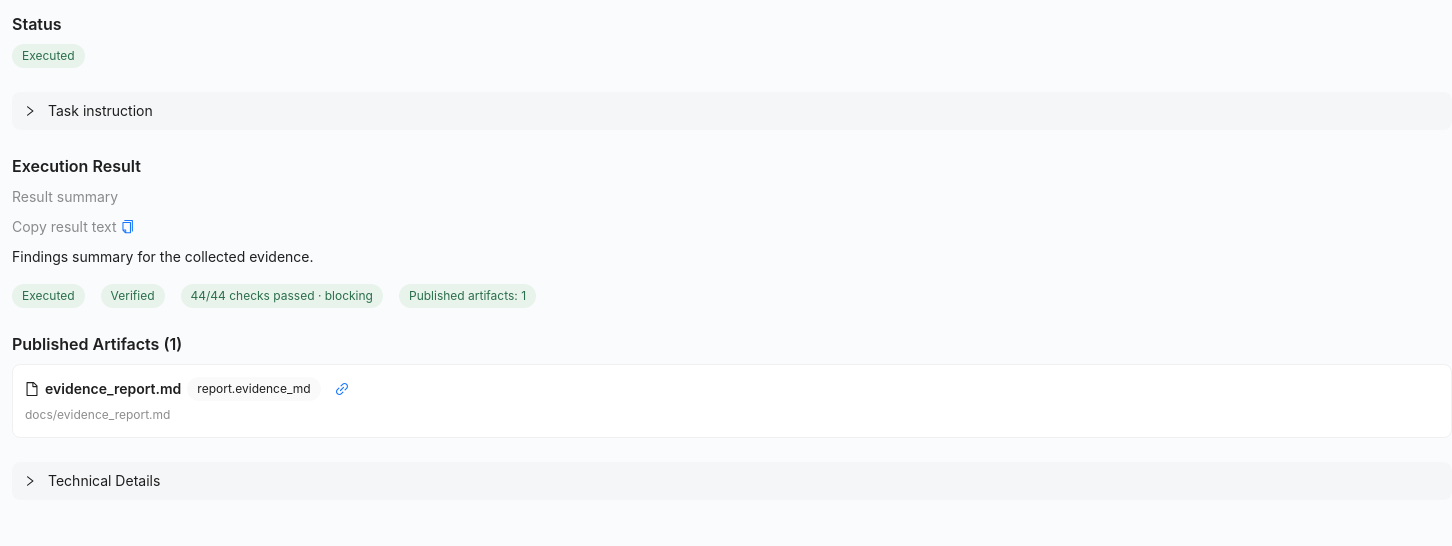
Scenario: TaskDrawerContent › expands the task instruction on demand
Expected: the text "Collect review evidence for the target protein." is not shown
Click the button "Task instruction" at (88, 110), box 24,102 -> 153,119
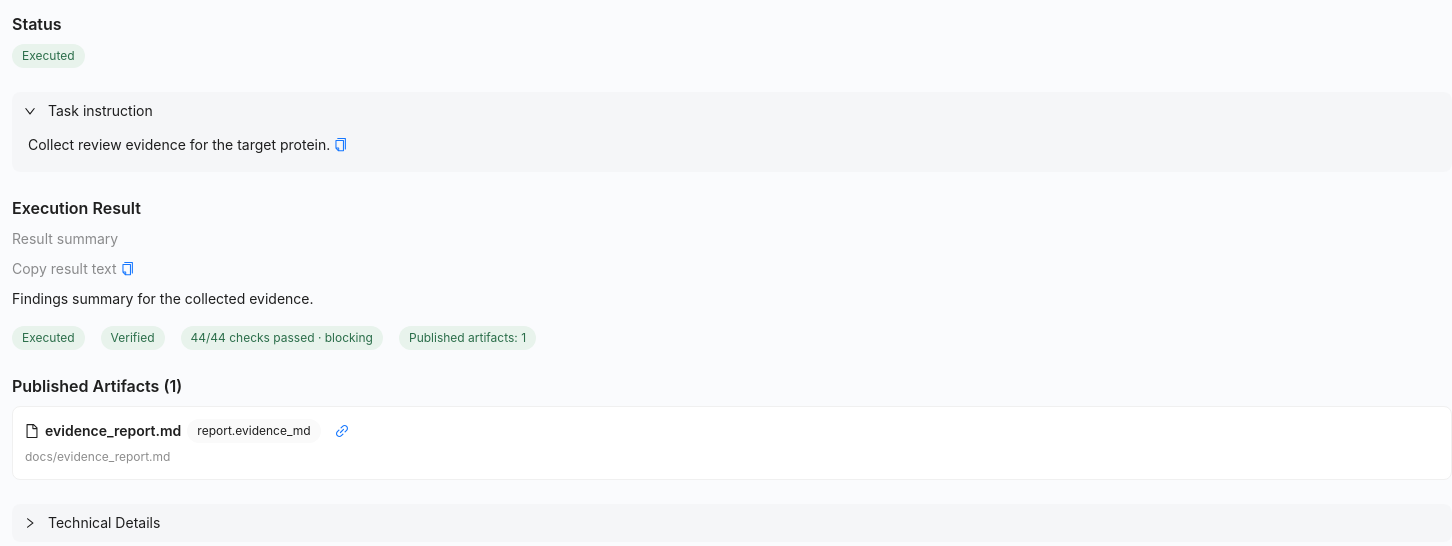
Expected: the text "Collect review evidence for the target protein." is shown, 28,136 -> 348,153
